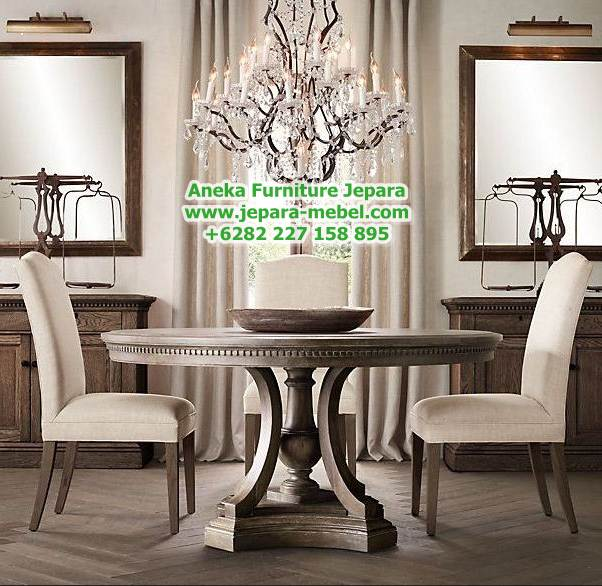Carving Chair: (16, 239, 209, 520), (408, 259, 593, 535)
Carving Table: (97, 313, 498, 548)
